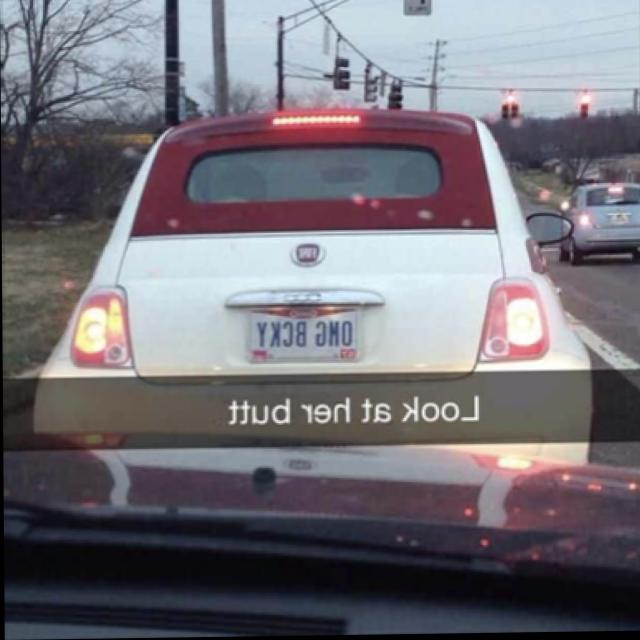licence: (246, 308, 365, 365)
